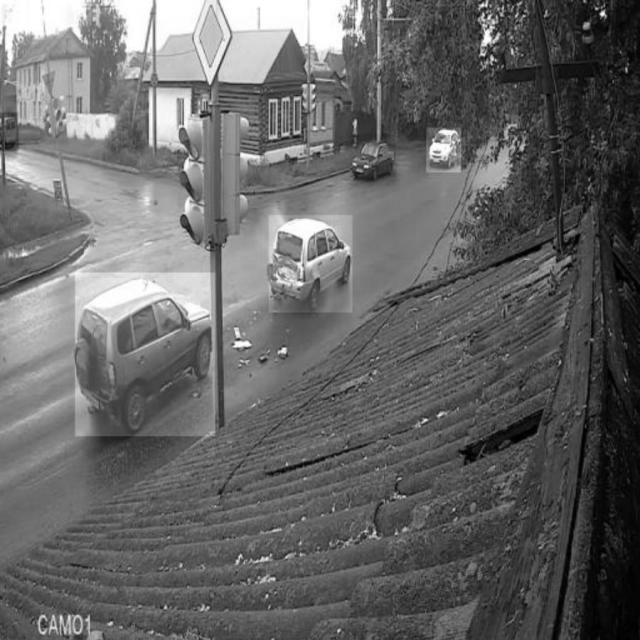vehicle: (75, 272, 215, 436), (270, 215, 353, 313), (351, 135, 397, 187), (426, 128, 461, 173), (0, 112, 18, 150)
